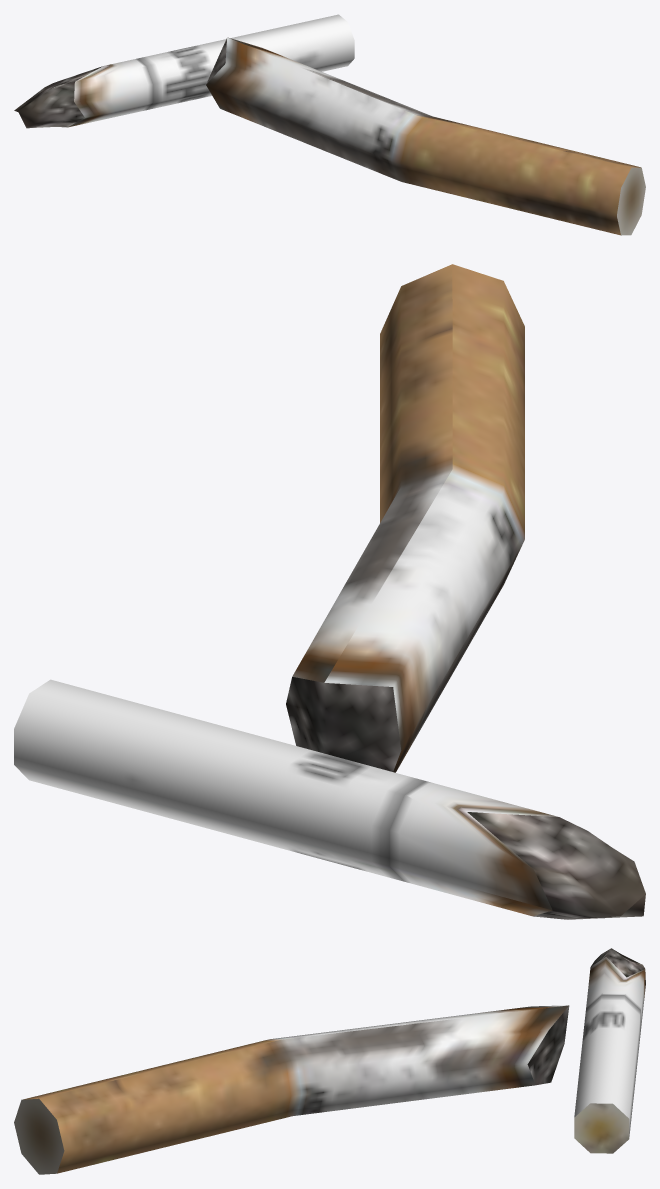
File: cigarette.fbx
The picture shows the model from 3 angles, top to bottom: view 1: azimuth 30°, elevation 25°; view 2: azimuth 150°, elevation 25°; view 3: azimuth 270°, elevation 25°; orthographic projection. The views are drawn at different scales.
Parts seen in each view (by area): view 1: Object001; view 2: Object001; view 3: Object001.
Part boxes in pixels (x1,y1,x2,y2): Object001: (14, 14, 645, 235); Object001: (14, 264, 645, 919); Object001: (14, 948, 645, 1174).
Size of the model in its own units: 3.71 by 0.6257 by 4.71.
1 material, 1 textured.
